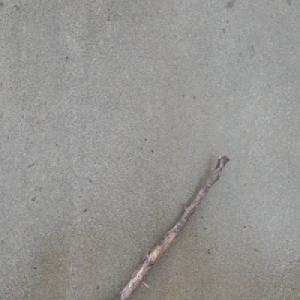Wood: (113, 153, 230, 300)
